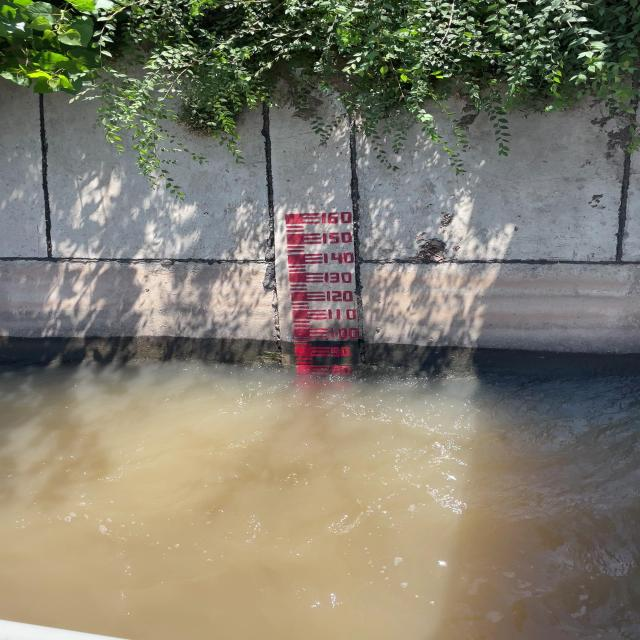ruler: (284, 209, 370, 371)
value: (316, 210, 356, 226), (321, 250, 358, 266), (319, 232, 357, 247), (326, 308, 360, 324), (323, 271, 357, 286), (323, 289, 358, 303), (330, 326, 363, 340), (330, 345, 354, 359)
